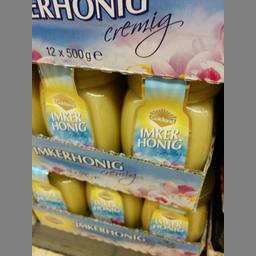honey: (121, 72, 216, 168), (35, 64, 120, 155), (31, 164, 88, 222), (142, 196, 207, 242), (84, 182, 140, 225)
